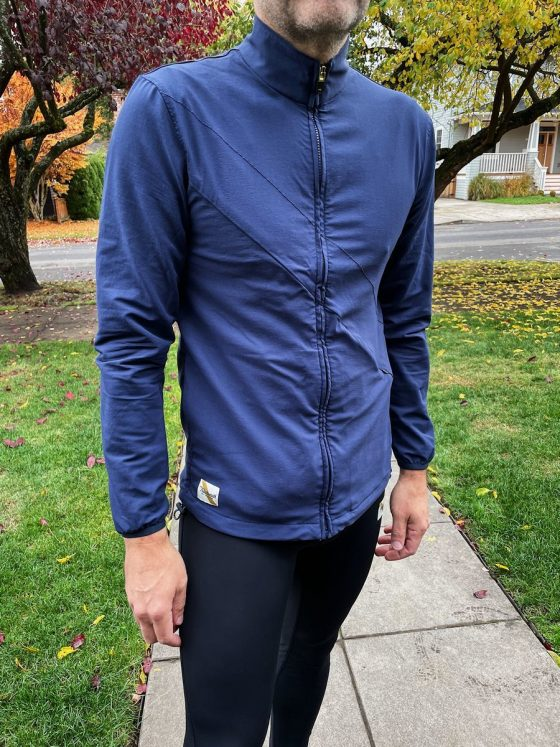egg: (56, 74, 504, 671)
